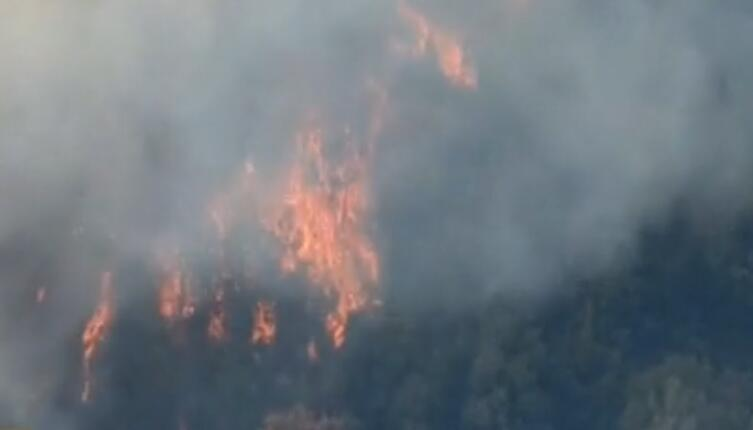fire: (60, 10, 473, 400)
yanwu: (26, 1, 752, 405)
